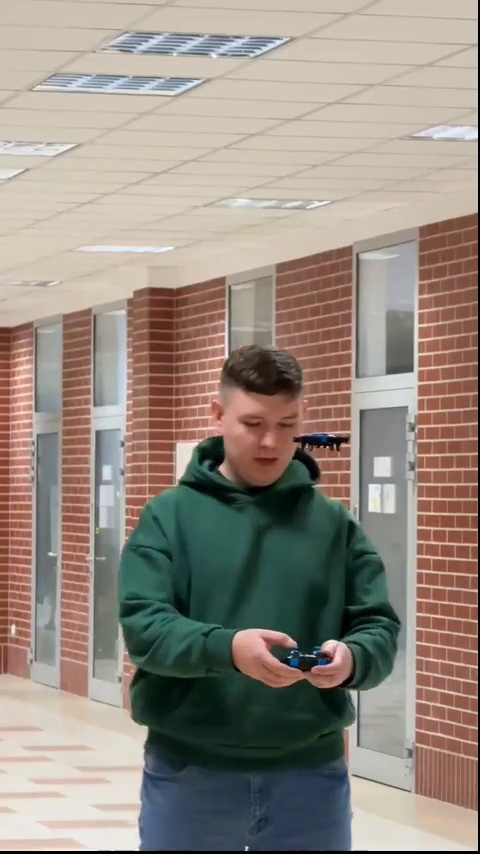drone: (292, 429, 351, 451)
no vest: (130, 345, 401, 853)
